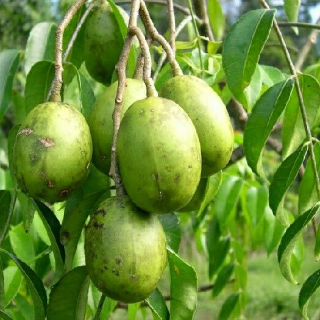coc: (116, 98, 200, 215), (12, 102, 93, 201)
